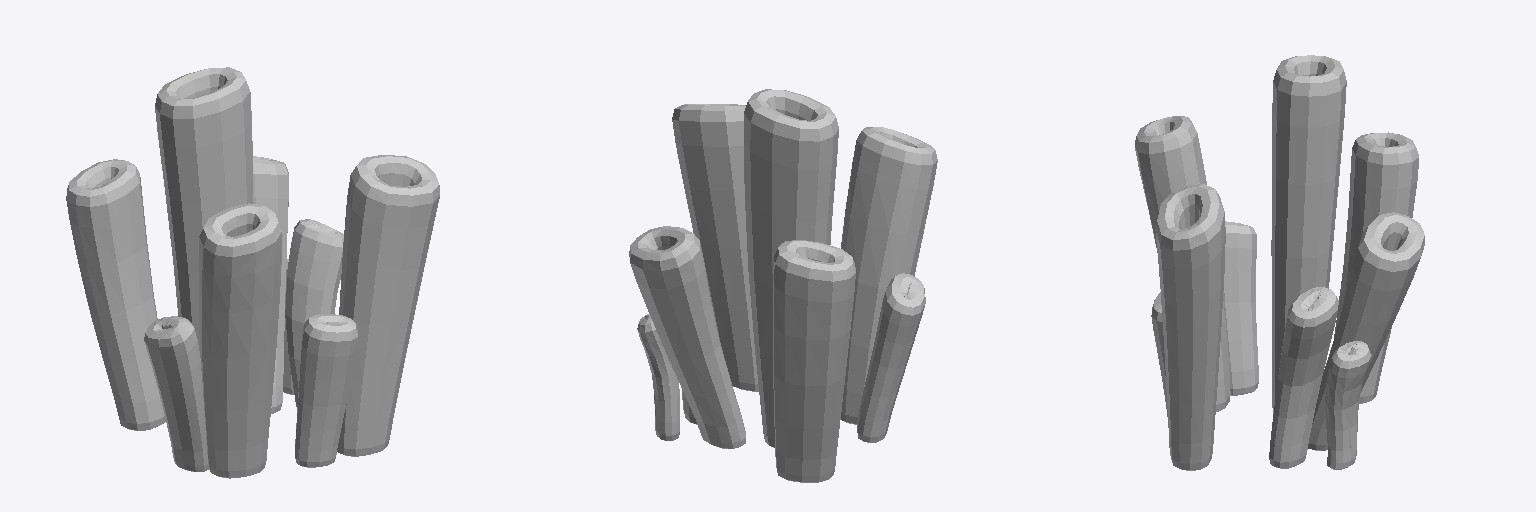
Rendered from Coral_D_01_LOD0.obj.
3 renders of one model, left to right at view 1: azimuth 30°, elevation 25°; view 2: azimuth 150°, elevation 25°; view 3: azimuth 270°, elevation 25°, orthographic.
Parts seen in each view (by area): view 1: Coral_D_01_LOD0_Cylinder.305; view 2: Coral_D_01_LOD0_Cylinder.305; view 3: Coral_D_01_LOD0_Cylinder.305.
Boxes of the visible parts, <box> form: Coral_D_01_LOD0_Cylinder.305: <box>66,67,439,478</box>; Coral_D_01_LOD0_Cylinder.305: <box>629,89,937,482</box>; Coral_D_01_LOD0_Cylinder.305: <box>1135,55,1424,470</box>.
Size of the model in its own units: 3.93 by 4.88 by 3.66.